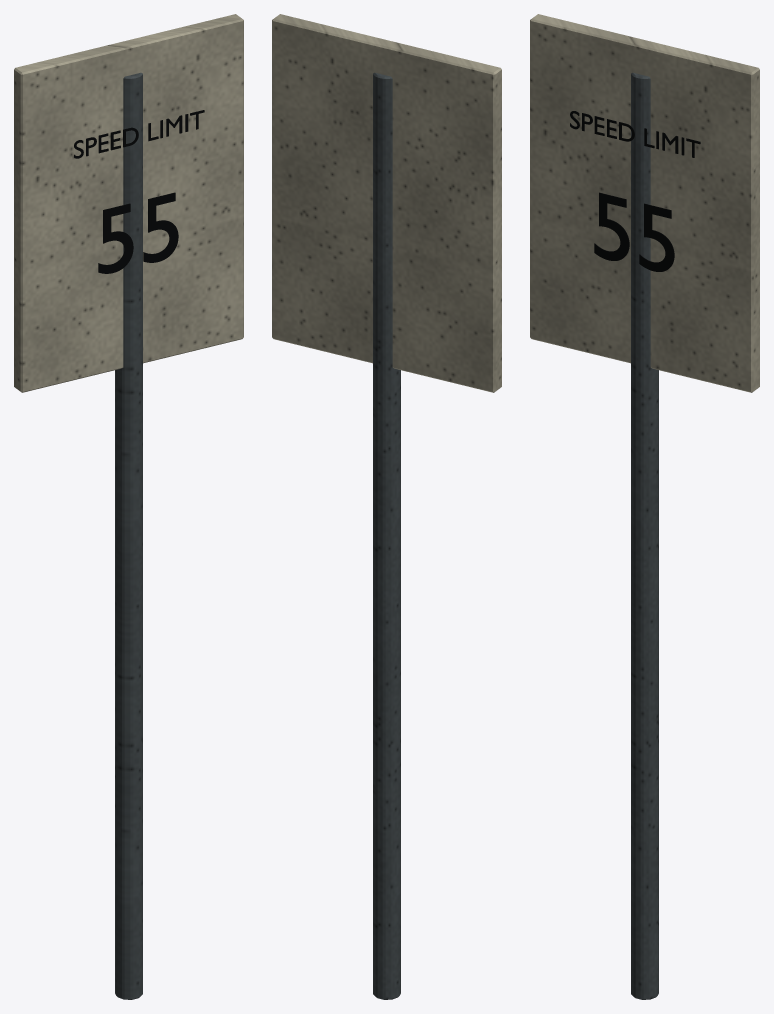
The model's file is PROP-2765DFD7C074_lod1.glb.
3 renders of one model, left to right at view 1: azimuth 30°, elevation 25°; view 2: azimuth 150°, elevation 25°; view 3: azimuth 330°, elevation 25°, orthographic.
Visible parts, largest first — view 1: sign_plate.021, sign_post.028, sign_letters_55.001, sign_letters_SPEED LIMIT.004; view 2: sign_plate.021, sign_post.028; view 3: sign_plate.021, sign_post.028, sign_letters_55.001, sign_letters_SPEED LIMIT.004.
Boxes of the visible parts, <box> form: sign_plate.021: <box>14,14,243,392</box>; sign_post.028: <box>115,72,142,999</box>; sign_letters_55.001: <box>98,192,178,273</box>; sign_letters_SPEED LIMIT.004: <box>74,110,204,158</box>; sign_plate.021: <box>272,14,501,392</box>; sign_post.028: <box>373,72,400,999</box>; sign_plate.021: <box>530,14,759,392</box>; sign_post.028: <box>631,72,658,999</box>; sign_letters_55.001: <box>594,192,674,271</box>; sign_letters_SPEED LIMIT.004: <box>570,111,700,157</box>.
Size of the model in its own units: 0.62 by 2.52 by 0.0823.
Materials: 3 (3 with a texture image).
